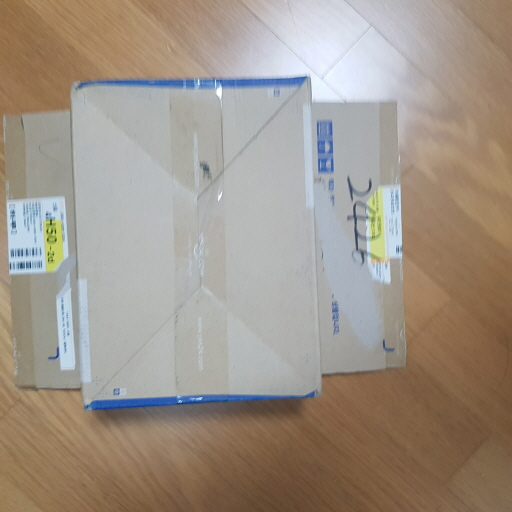Paper_0: (1, 76, 414, 408)
